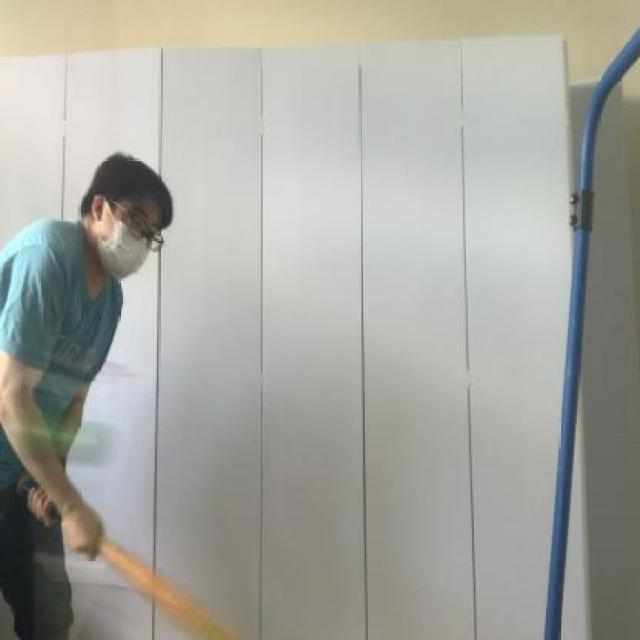baseball: (0, 411, 125, 478)
